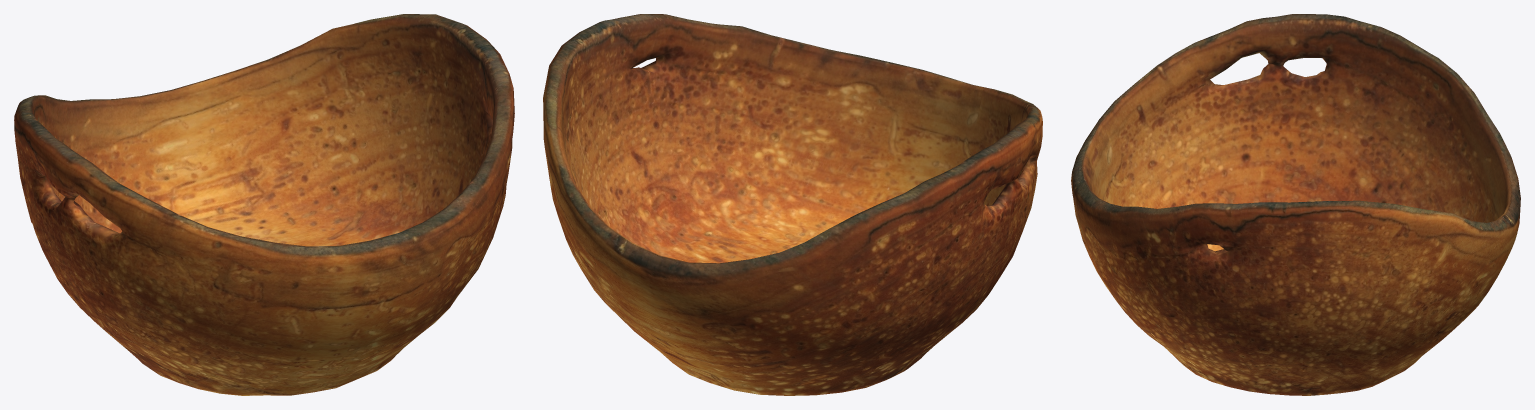
File: wooden_bowl_02_1k.gltf
3 views of the same model, side by side, from view 1: azimuth 30°, elevation 25°; view 2: azimuth 150°, elevation 25°; view 3: azimuth 270°, elevation 25° (orthographic). The views are drawn at different scales.
Parts seen in each view (by area): view 1: wooden_bowl_02; view 2: wooden_bowl_02; view 3: wooden_bowl_02.
Part boxes in pixels (x1,y1,x2,y2): wooden_bowl_02: (14,14,514,395); wooden_bowl_02: (543,14,1042,395); wooden_bowl_02: (1071,14,1520,395).
Size of the model in its own units: 0.1307 by 0.0731 by 0.1245.
Materials: 1 (1 with a texture image).
